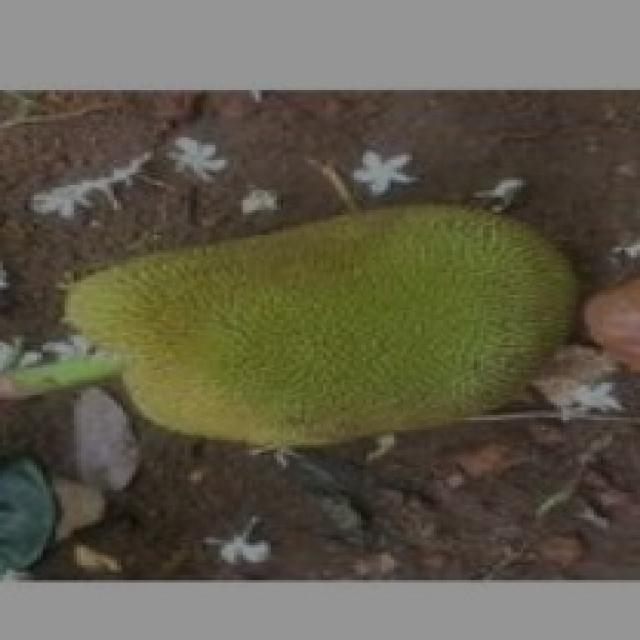Fruit: (206, 163, 600, 475)
